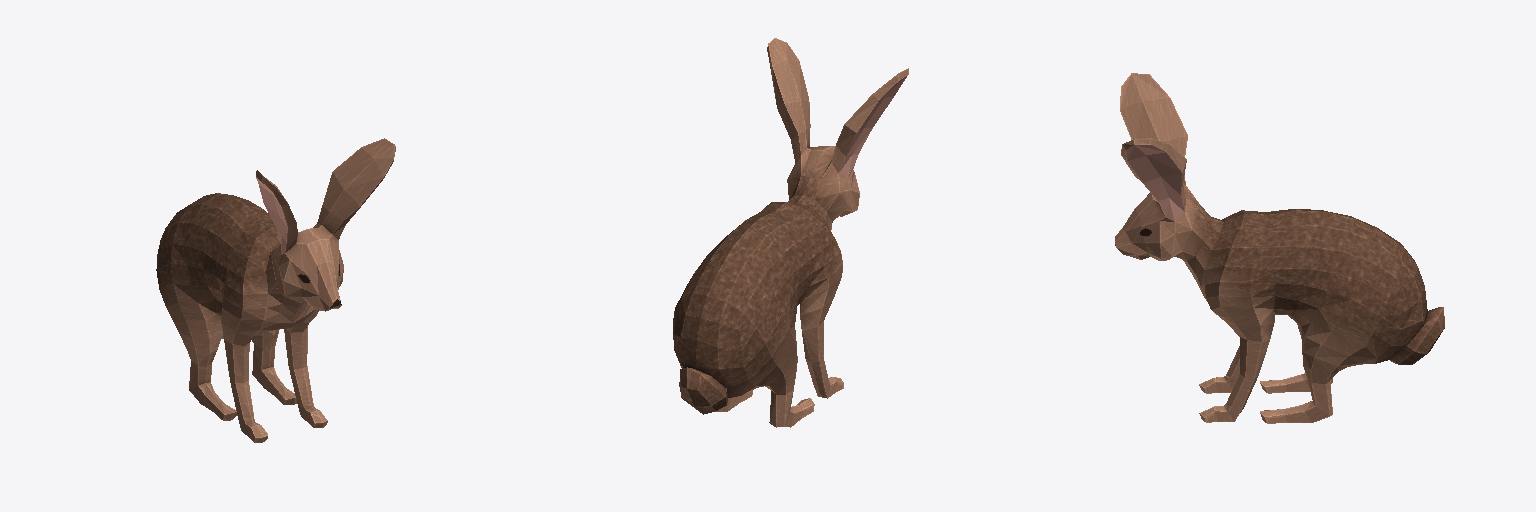
3 views of the same model, side by side, from view 1: azimuth 30°, elevation 25°; view 2: azimuth 150°, elevation 25°; view 3: azimuth 270°, elevation 25° (orthographic).
Visible parts, largest first — view 1: JackRabbit_mesh; view 2: JackRabbit_mesh; view 3: JackRabbit_mesh.
Boxes of the visible parts, <box> form: JackRabbit_mesh: <box>156,138,395,442</box>; JackRabbit_mesh: <box>673,38,908,427</box>; JackRabbit_mesh: <box>1115,73,1444,423</box>.
Size of the model in its own units: 3.29 by 7 by 6.98.
1 materials, 1 textured.